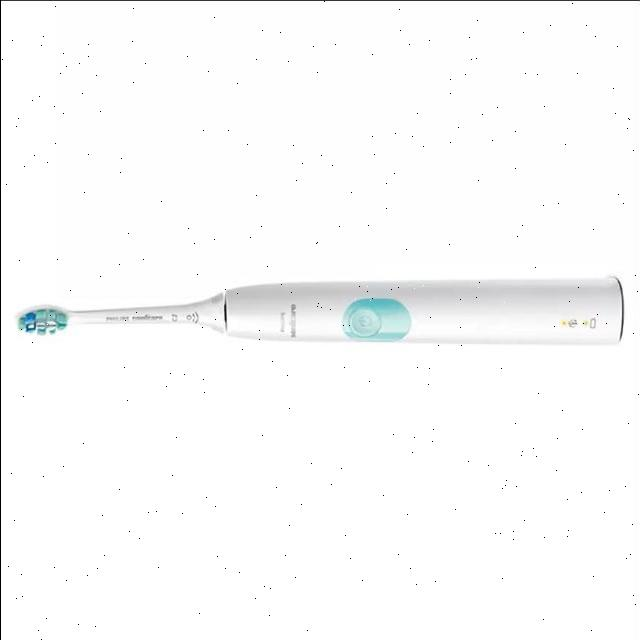toothbrush: (7, 254, 625, 378)
